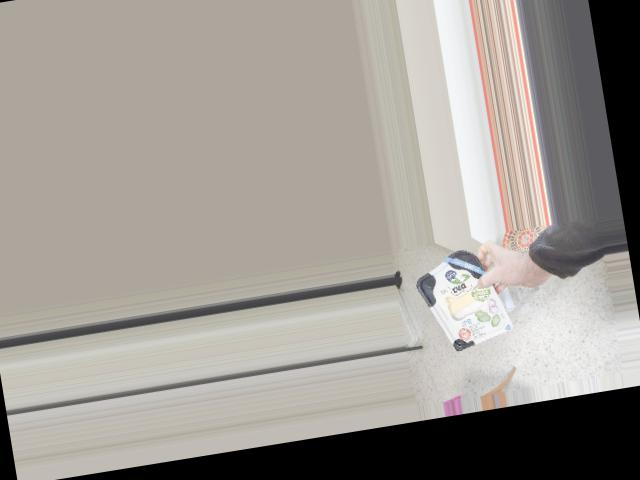cheese: (418, 243, 500, 354)
